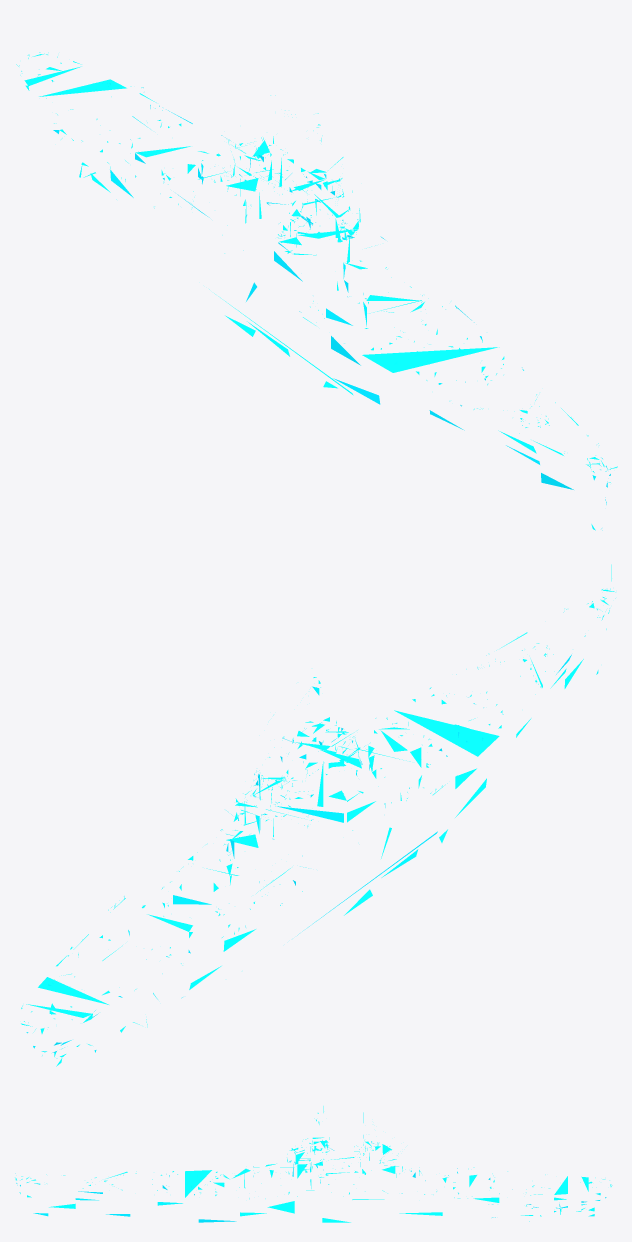
File: Alsace.glb
3 renders of one model, top to bottom at view 1: azimuth 30°, elevation 25°; view 2: azimuth 150°, elevation 25°; view 3: azimuth 270°, elevation 25°, orthographic. The views are drawn at different scales.
Bounding box in the file's own units: 2.38 × 3.62 × 17.8.
